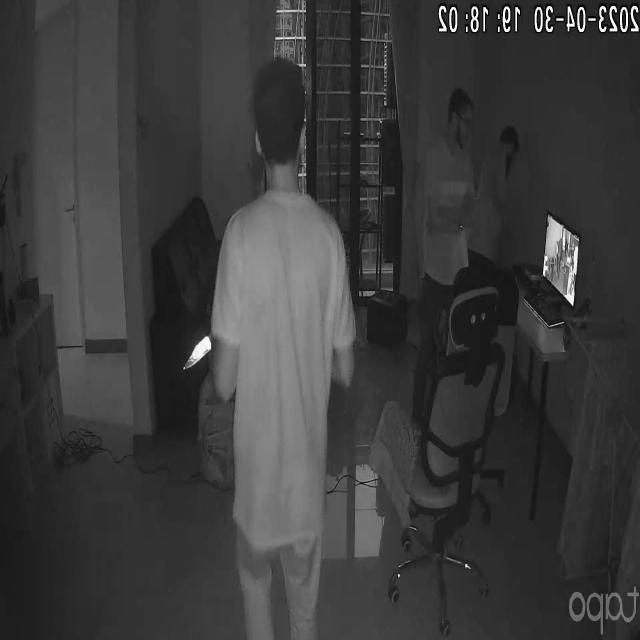Knife: (173, 332, 217, 376)
